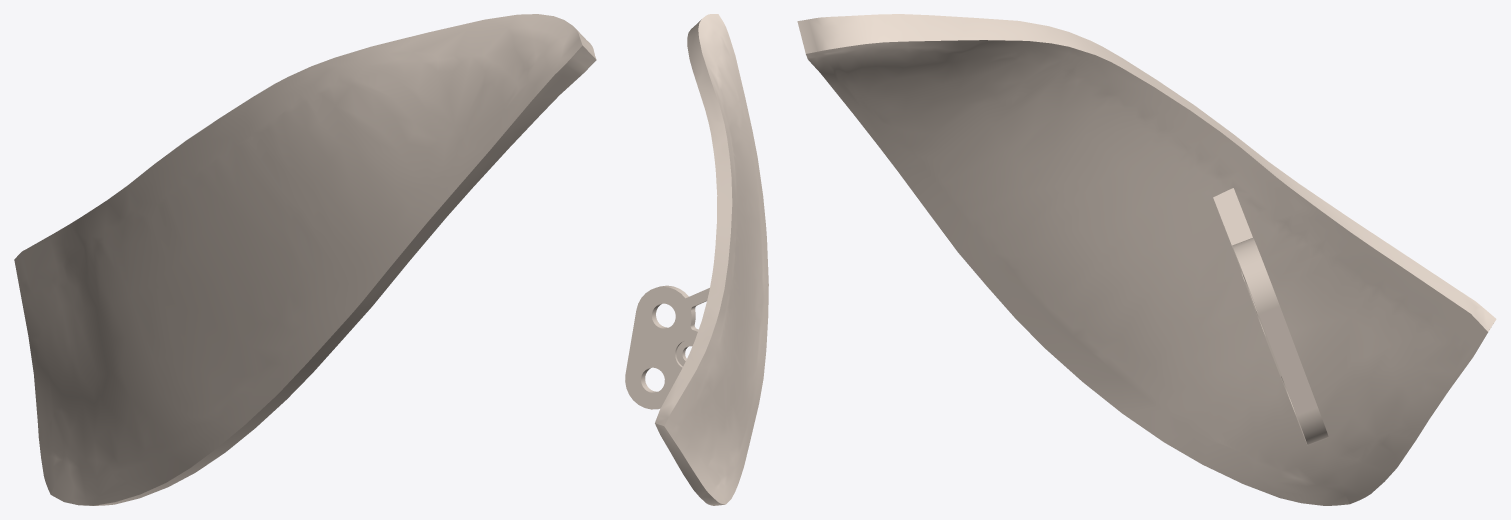
File: Upper_Cheek.gltf
3 renders of one model, left to right at view 1: azimuth 30°, elevation 25°; view 2: azimuth 150°, elevation 25°; view 3: azimuth 270°, elevation 25°, orthographic. The views are drawn at different scales.
Parts seen in each view (by area): view 1: Upper Cheek v1; view 2: Upper Cheek v1; view 3: Upper Cheek v1.
Boxes of the visible parts, x1,y1,x2,y2 form: Upper Cheek v1: [14, 14, 596, 505]; Upper Cheek v1: [625, 14, 768, 505]; Upper Cheek v1: [797, 14, 1496, 505].
Bounding box in the file's own units: 0.0479 × 0.0908 × 0.0926.
